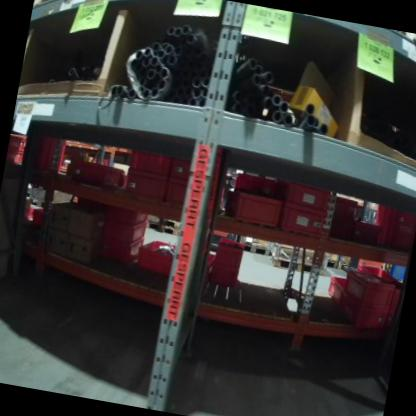pallet: (270, 256, 319, 274), (32, 0, 88, 15), (237, 242, 269, 257)
small_load_carrier: (321, 271, 393, 329), (220, 188, 283, 229), (339, 266, 397, 306), (61, 155, 127, 190), (370, 205, 416, 254), (274, 178, 332, 212), (210, 237, 246, 287), (278, 205, 328, 240), (98, 229, 145, 264), (101, 212, 148, 246), (9, 127, 62, 157), (127, 169, 171, 203), (139, 237, 175, 277), (6, 148, 59, 174), (127, 150, 172, 175), (234, 173, 277, 197), (104, 206, 150, 228), (386, 278, 405, 331), (348, 217, 381, 246), (332, 196, 361, 223), (24, 202, 48, 227), (168, 159, 189, 178), (205, 253, 216, 283)
